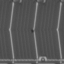dust: (30, 28, 33, 33)
